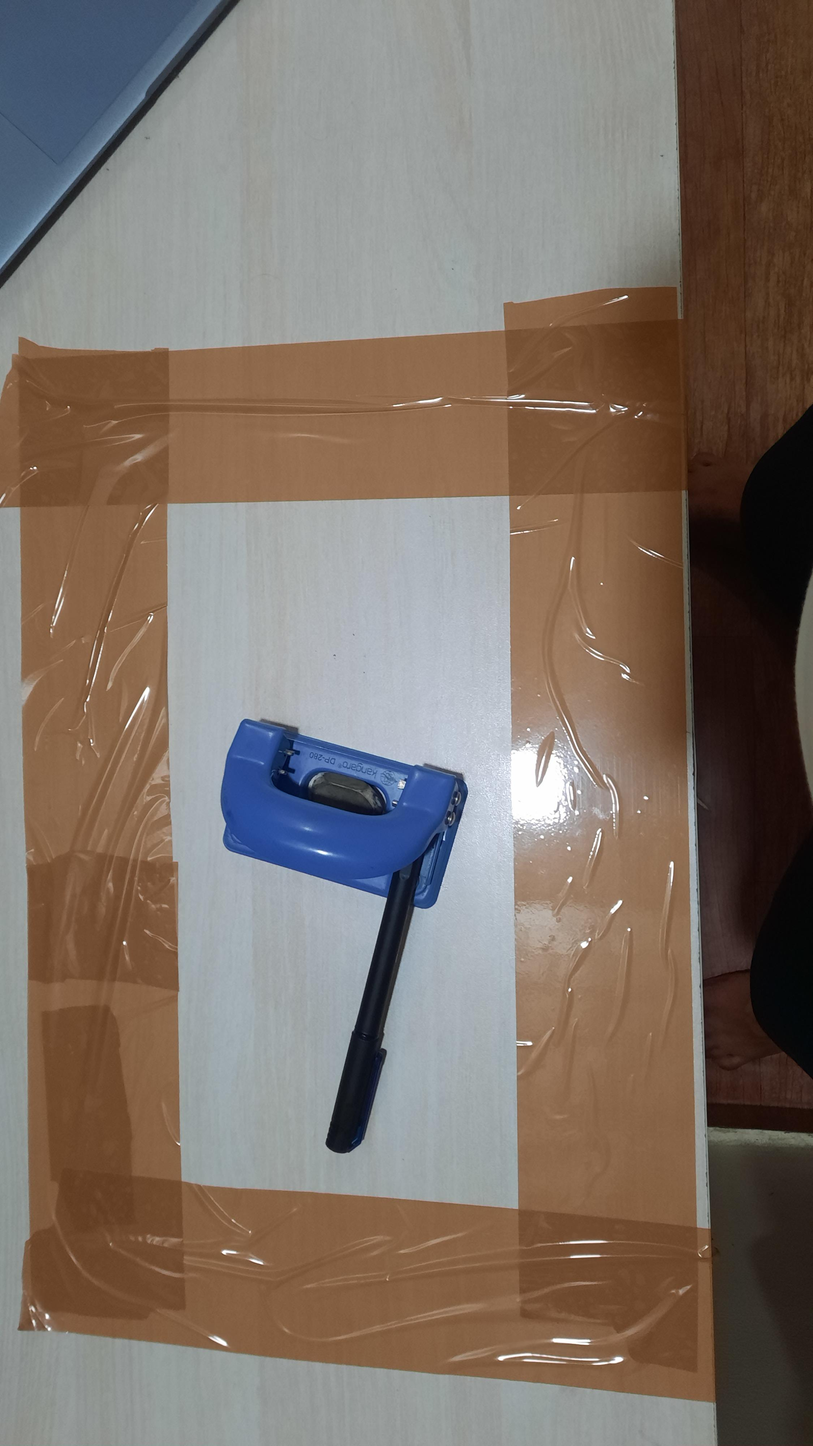Pen: (325, 850, 426, 1154)
Punch: (220, 718, 468, 910)
